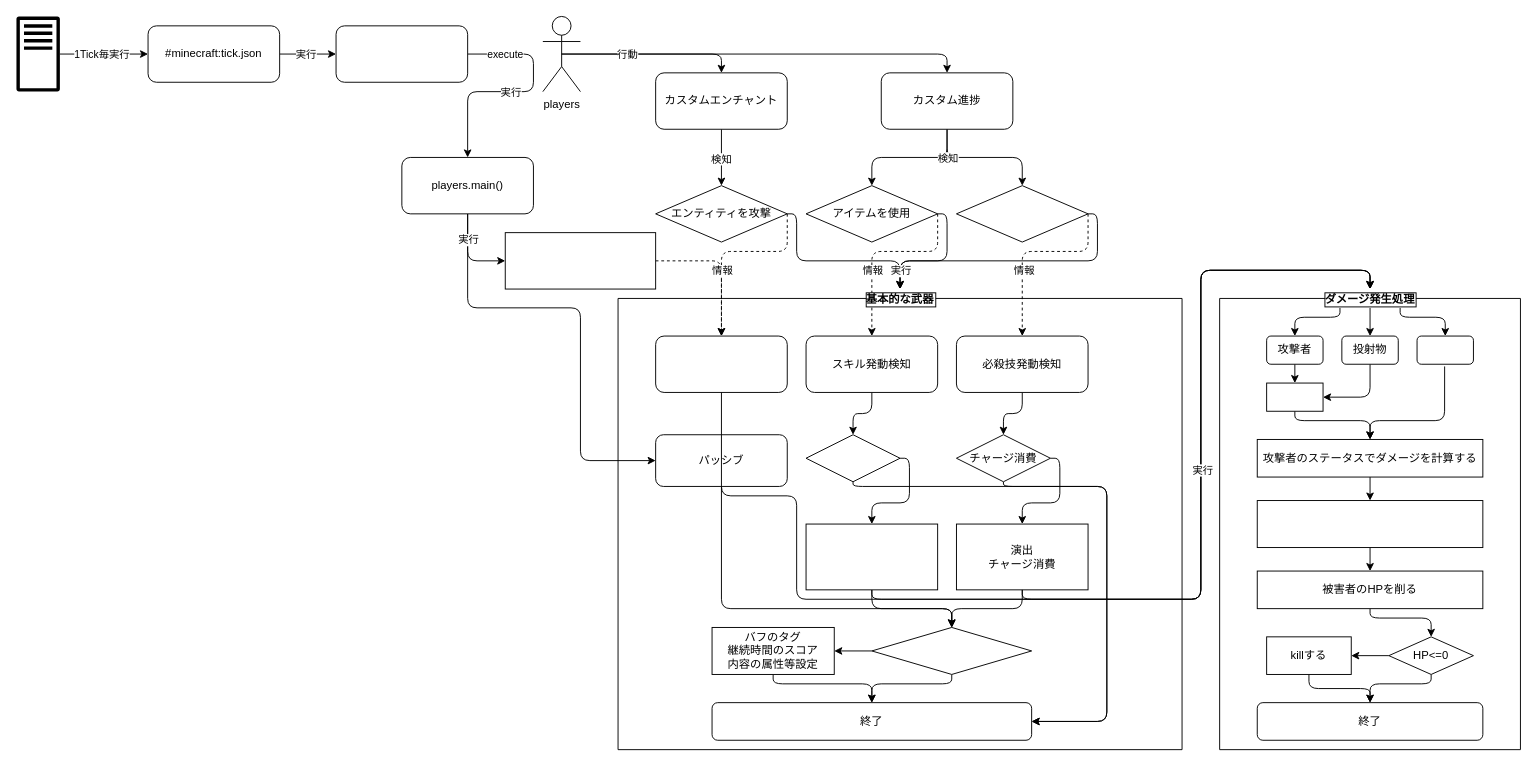
The diagram is 1537 pixels wide and 766 high, and some of its shapes have lost their labels. Each missing label, with the box of its shape:
[damage:display.summon] 別関数にてダメージを表示する: (1256, 500, 1483, 548)
[weapon/set.weapon_data] 通常攻撃の 倍率と 属性種類 を設定する: (504, 232, 656, 289)
main(): (335, 25, 468, 82)
MP消費&CT: (805, 434, 900, 482)
Server: (16, 16, 59, 91)
アイテムを拾う: (956, 185, 1088, 242)
タグ付与: (1266, 382, 1323, 411)
持続バフが存在するか: (871, 627, 1032, 674)
演出 MP消費・CT入り: (805, 523, 938, 590)
被害者: (1416, 335, 1473, 364)
通常攻撃検知: (655, 335, 787, 392)
